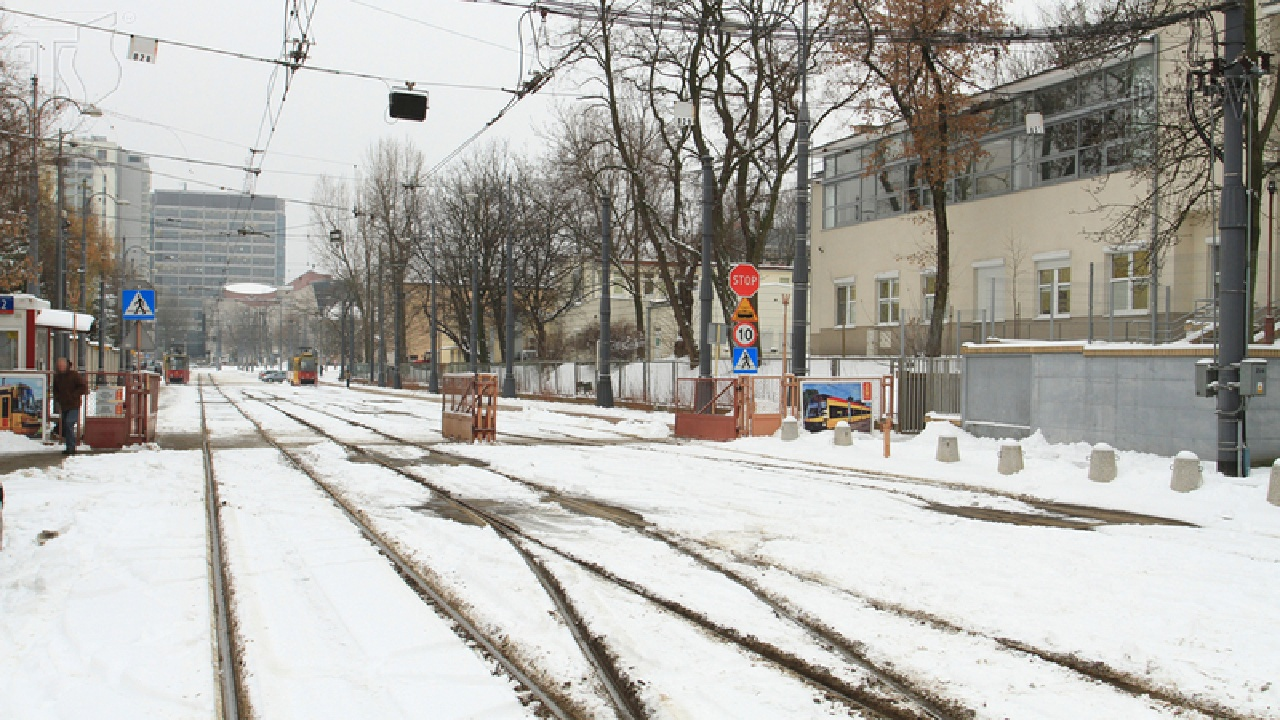A21: (727, 297, 763, 326)
B20: (727, 261, 761, 297)
B33_10: (733, 321, 757, 344)
D6: (122, 289, 158, 321), (731, 347, 761, 374)
